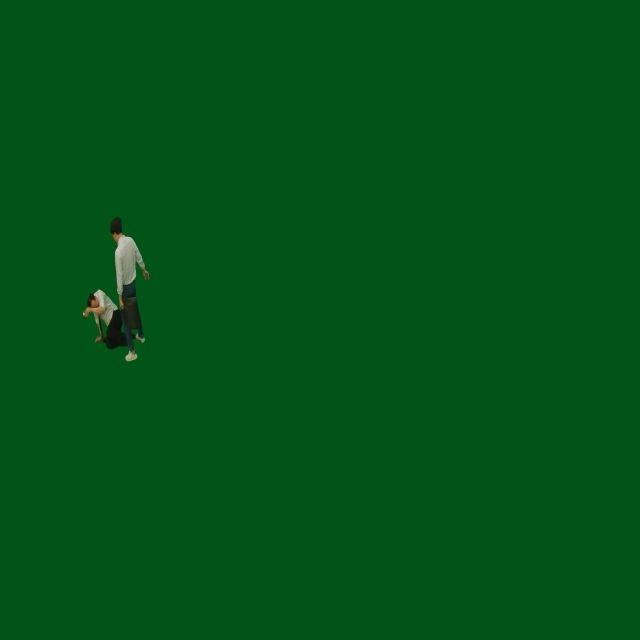fight: (81, 214, 152, 363)
